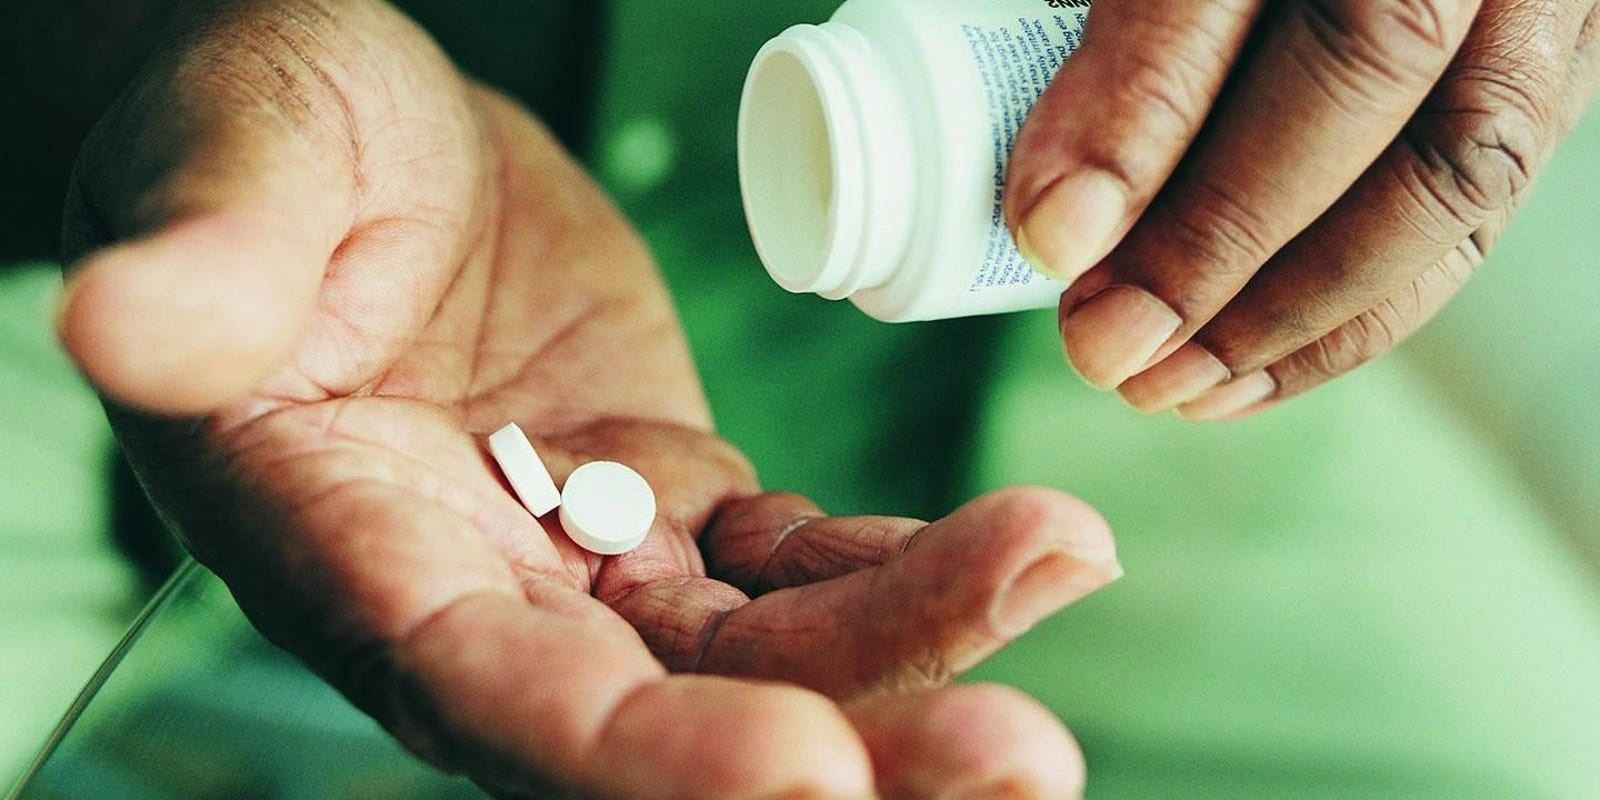pills: (561, 449, 657, 570)
